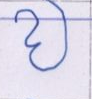e_matra: (26, 0, 72, 17)
